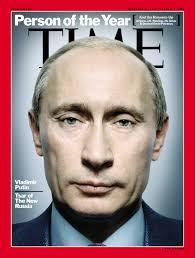Liquid: (1, 3, 195, 258)
